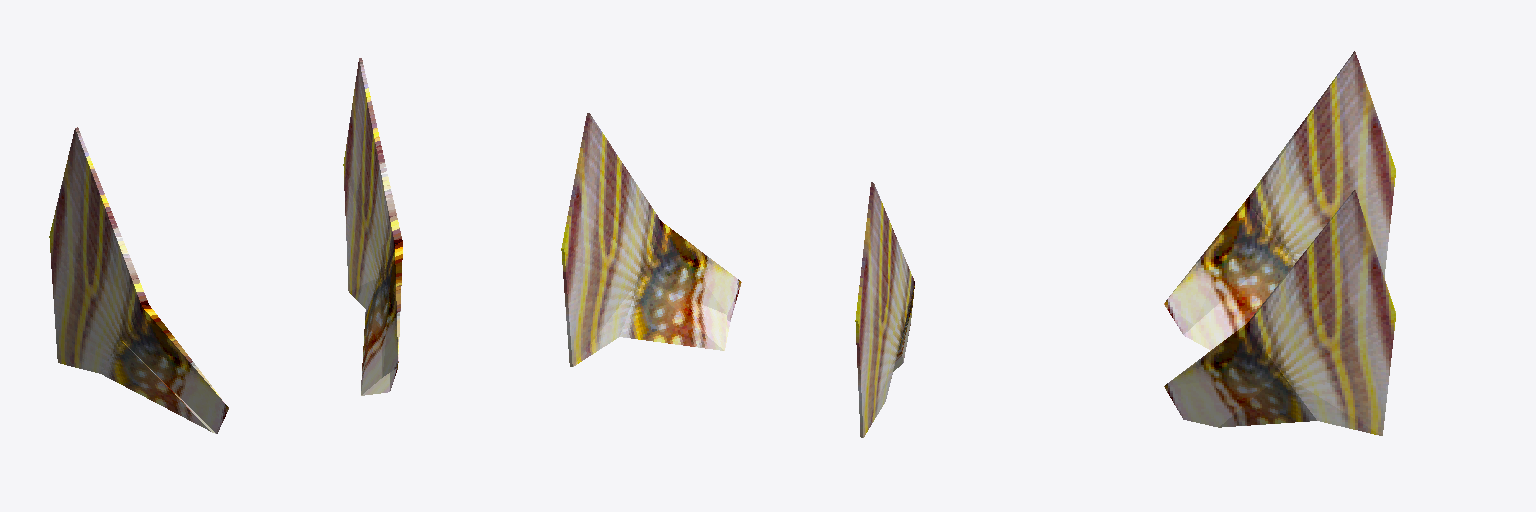
The picture shows the model from 3 angles: view 1: azimuth 30°, elevation 25°; view 2: azimuth 150°, elevation 25°; view 3: azimuth 270°, elevation 25°; orthographic projection.
Parts seen in each view (by area): view 1: TropicalFish01_TropicalFish01; view 2: TropicalFish01_TropicalFish01; view 3: TropicalFish01_TropicalFish01.
Part boxes in pixels (bbox=[...]): TropicalFish01_TropicalFish01: bbox=[49, 58, 402, 433]; TropicalFish01_TropicalFish01: bbox=[561, 113, 914, 437]; TropicalFish01_TropicalFish01: bbox=[1164, 51, 1395, 435].
Size of the model in its own units: 1.14 by 0.9932 by 0.7713.
Materials: 1 (1 with a texture image).